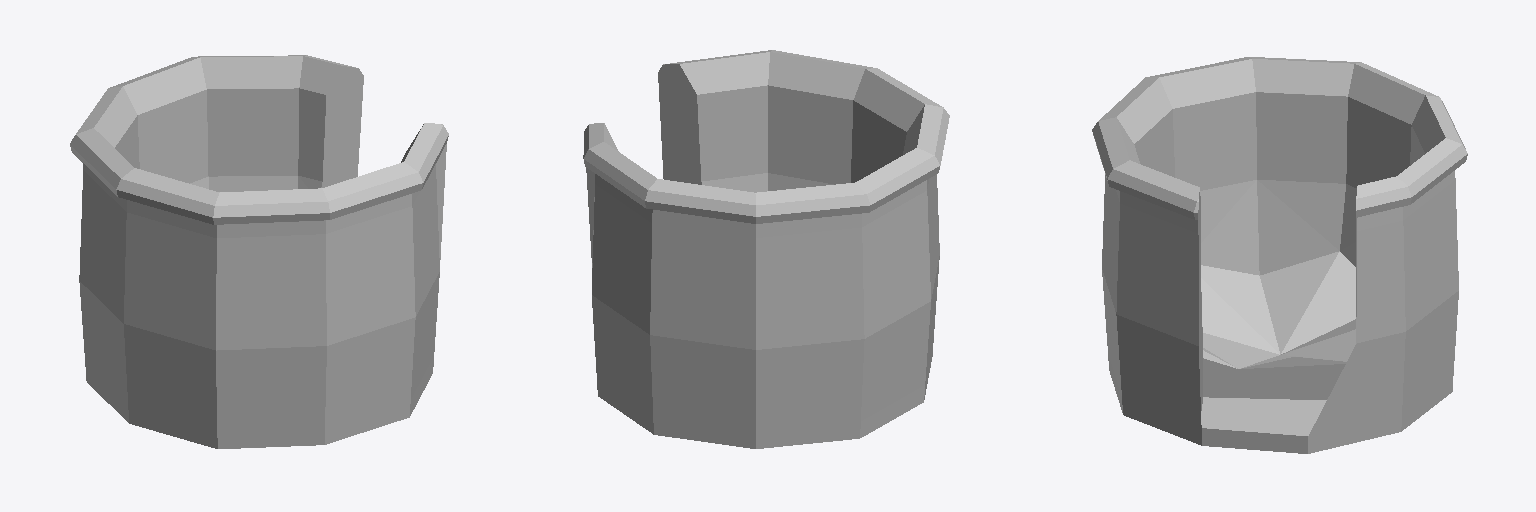
The model's file is wooden_basket2.obj.
3 views of the same model, side by side, from view 1: azimuth 30°, elevation 25°; view 2: azimuth 150°, elevation 25°; view 3: azimuth 270°, elevation 25° (orthographic).
Visible parts, largest first — view 1: kosz_Circle.001; view 2: kosz_Circle.001; view 3: kosz_Circle.001.
Part boxes in pixels (bbox=[...]): kosz_Circle.001: bbox=[70, 55, 448, 448]; kosz_Circle.001: bbox=[583, 50, 949, 448]; kosz_Circle.001: bbox=[1092, 57, 1467, 453].
Size of the model in its own units: 4.15 by 3.33 by 4.32.